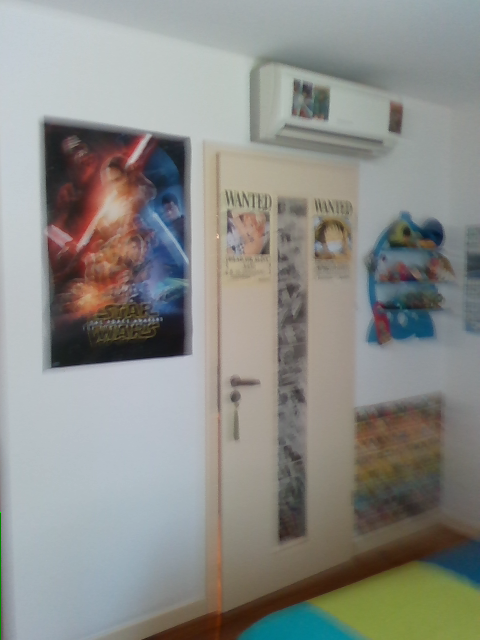closed: (203, 140, 361, 614)
